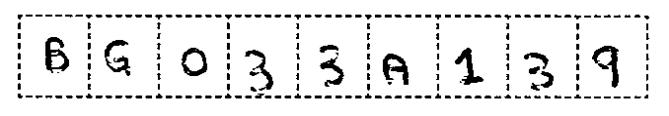0: (177, 41, 213, 84)
1: (449, 46, 488, 88)
3: (239, 47, 279, 93), (517, 49, 558, 93), (314, 42, 348, 91)
9: (584, 41, 628, 91)
A: (375, 50, 416, 90)
B: (41, 32, 74, 79)
G: (98, 34, 137, 81)
